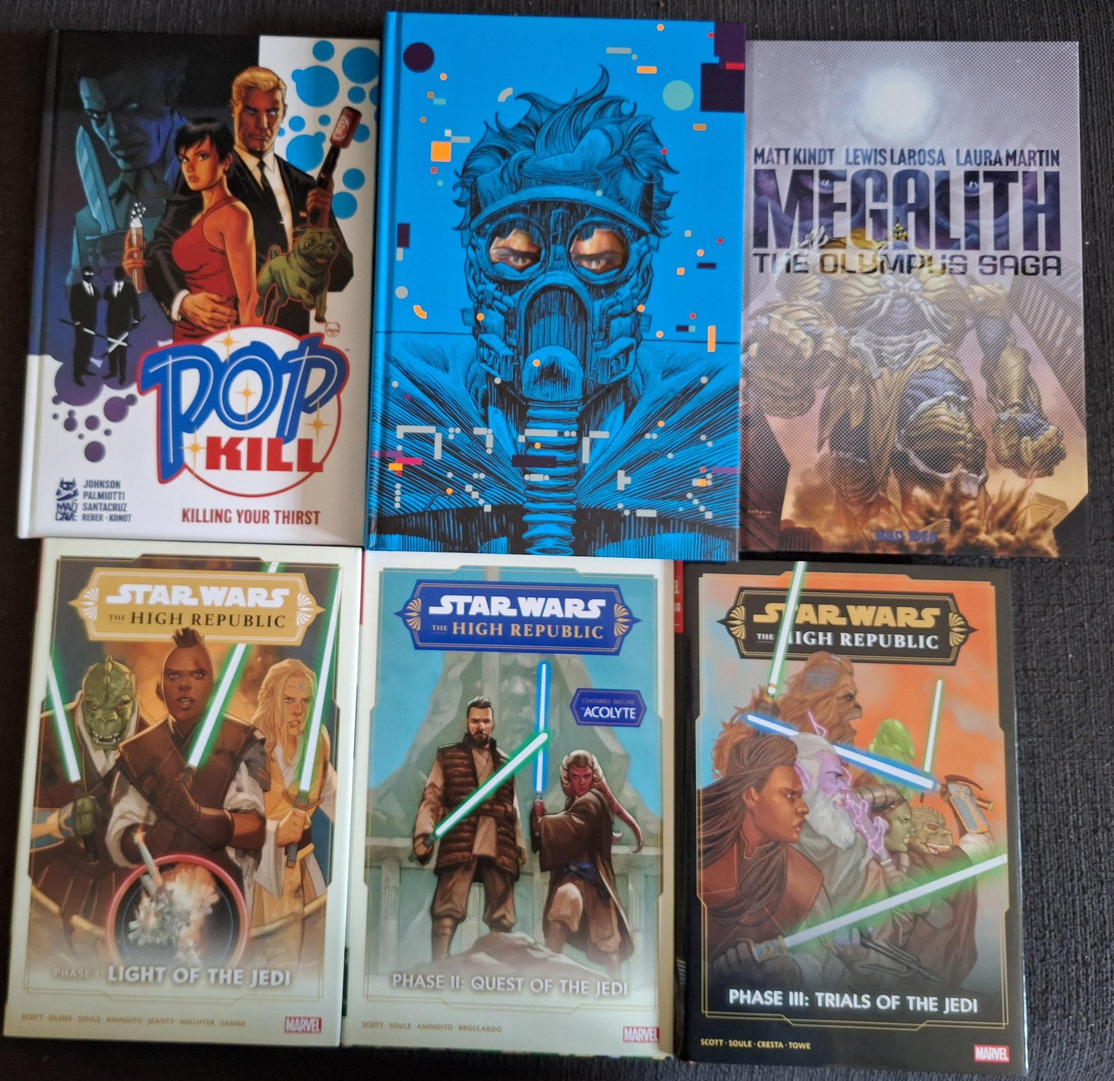comic: (368, 12, 752, 561), (18, 27, 380, 546), (4, 536, 360, 1047), (741, 38, 1091, 556), (676, 561, 1026, 1075), (342, 551, 687, 1057)
